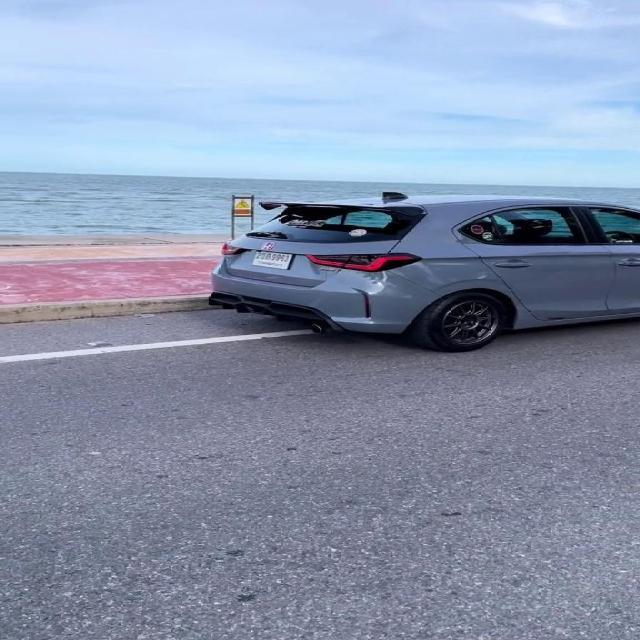Hatchback: (211, 191, 639, 351)
